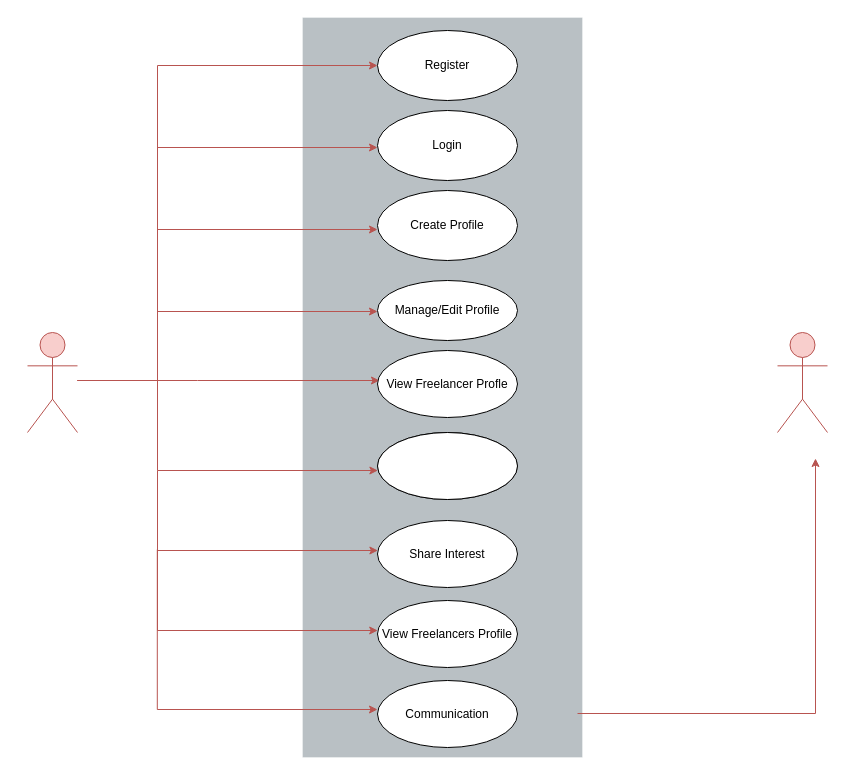
This 851x775 diagram has some shape labels left out. The centre of each missing label's shape, as x and y in pixels:
"Business" goes at point (802, 382).
"Freelancer" goes at point (52, 382).
"View Jobs" goes at point (447, 466).
